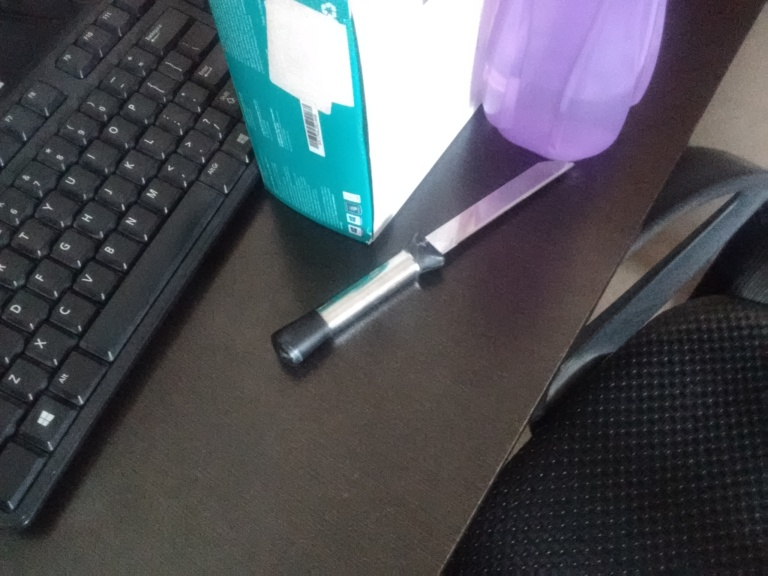knife: (266, 157, 579, 370)
